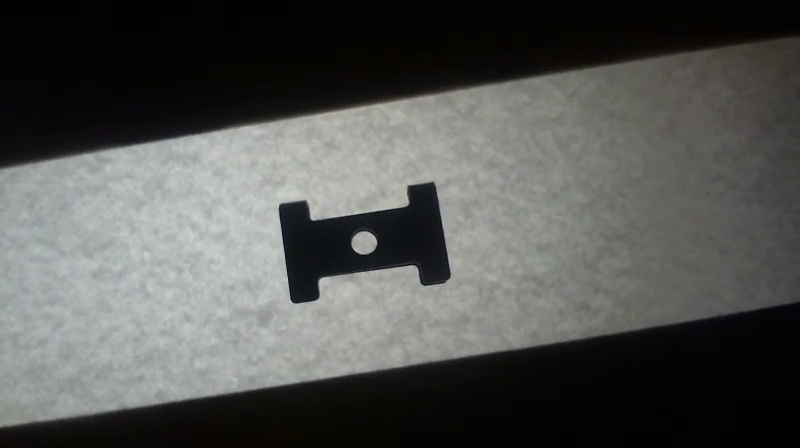O002: (275, 179, 453, 304)
